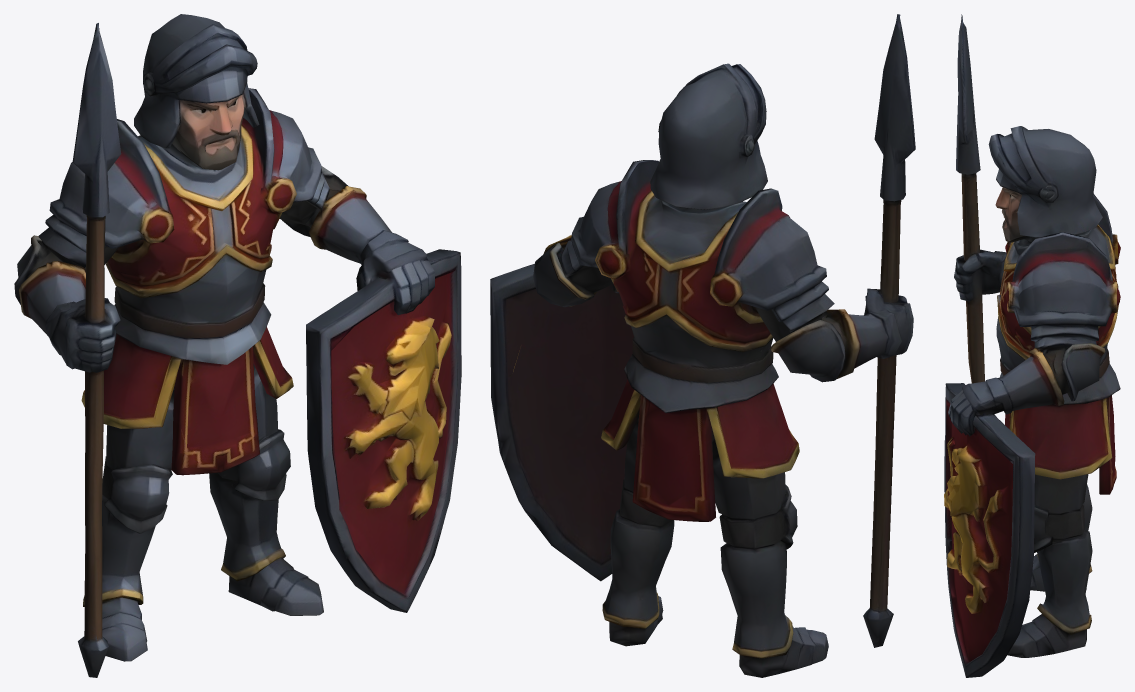
File: sovalye.glb
3 views of the same model, side by side, from view 1: azimuth 30°, elevation 25°; view 2: azimuth 150°, elevation 25°; view 3: azimuth 270°, elevation 25° (orthographic). The views are drawn at different scales.
Visible parts, largest first — view 1: tripo_node_c1c85e6f-c570-420a-8673-73eced1e1886; view 2: tripo_node_c1c85e6f-c570-420a-8673-73eced1e1886; view 3: tripo_node_c1c85e6f-c570-420a-8673-73eced1e1886.
Boxes of the visible parts, x1,y1,x2,y2 form: tripo_node_c1c85e6f-c570-420a-8673-73eced1e1886: [14, 14, 461, 677]; tripo_node_c1c85e6f-c570-420a-8673-73eced1e1886: [490, 14, 915, 677]; tripo_node_c1c85e6f-c570-420a-8673-73eced1e1886: [944, 14, 1120, 677].
Bounding box in the file's own units: 0.6485 × 0.9773 × 0.2893.
1 material, 1 textured.
